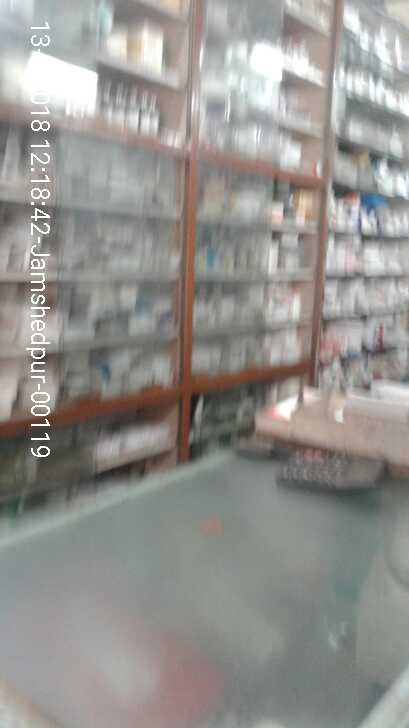reject: (90, 104, 224, 192)
